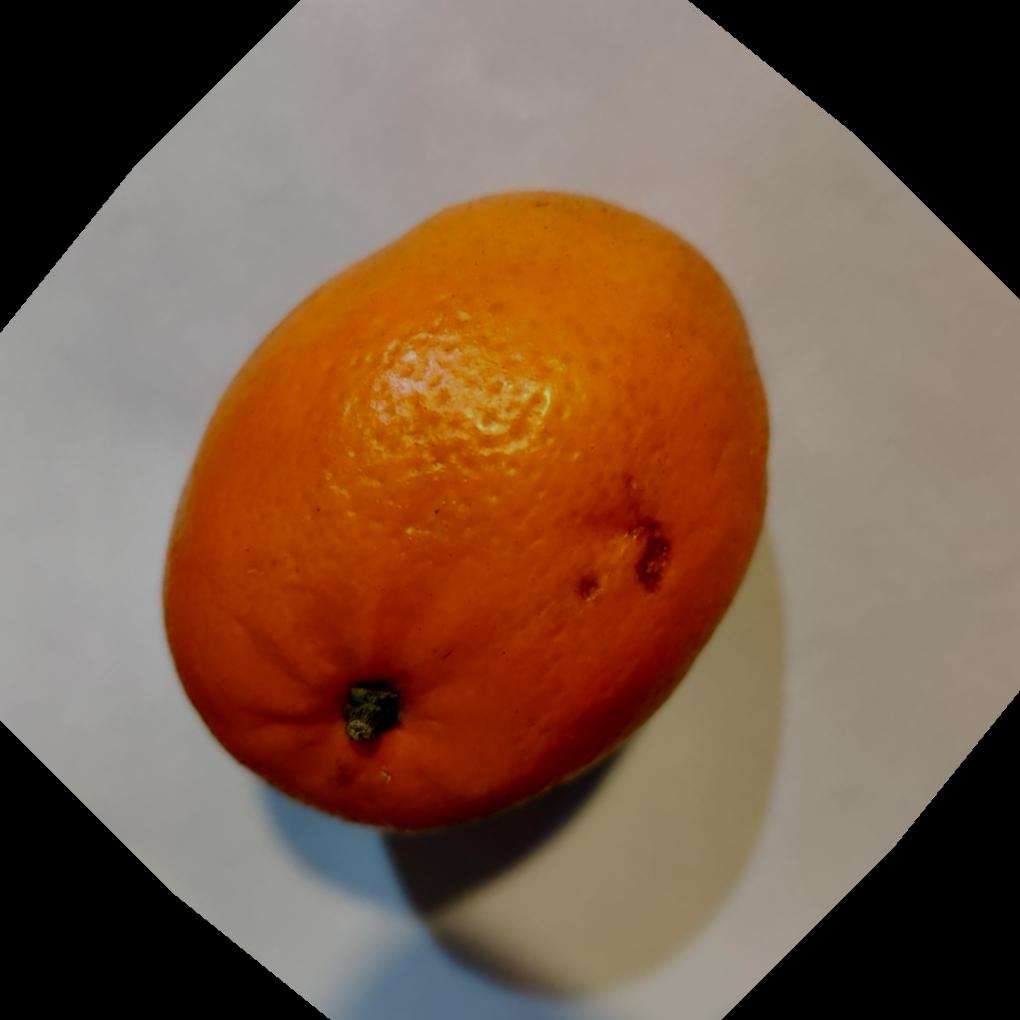FreshGuava: (161, 184, 775, 832)
